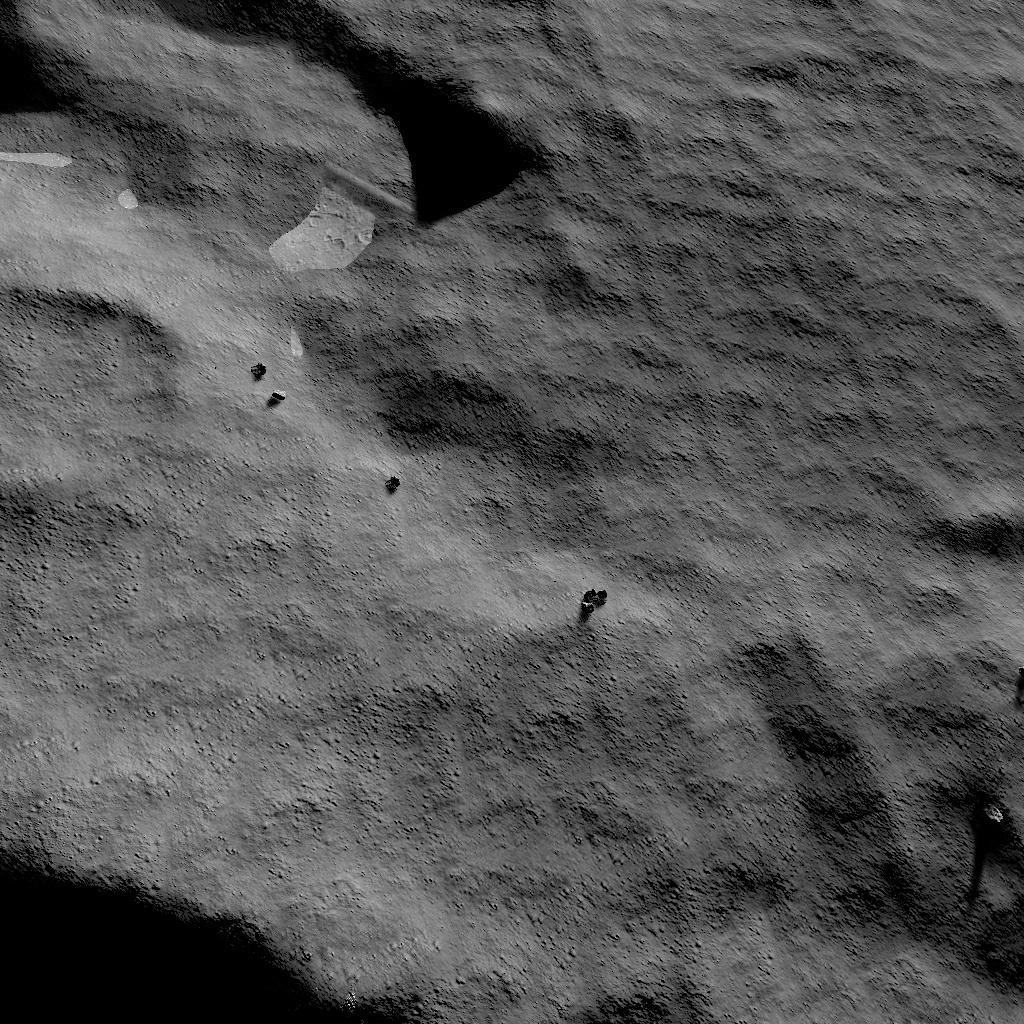Boulders: (260, 204, 380, 281)
Crater: (2, 0, 552, 196), (0, 836, 440, 1024), (0, 264, 175, 512)
Plan surface: (621, 0, 943, 1024), (0, 558, 564, 800)
